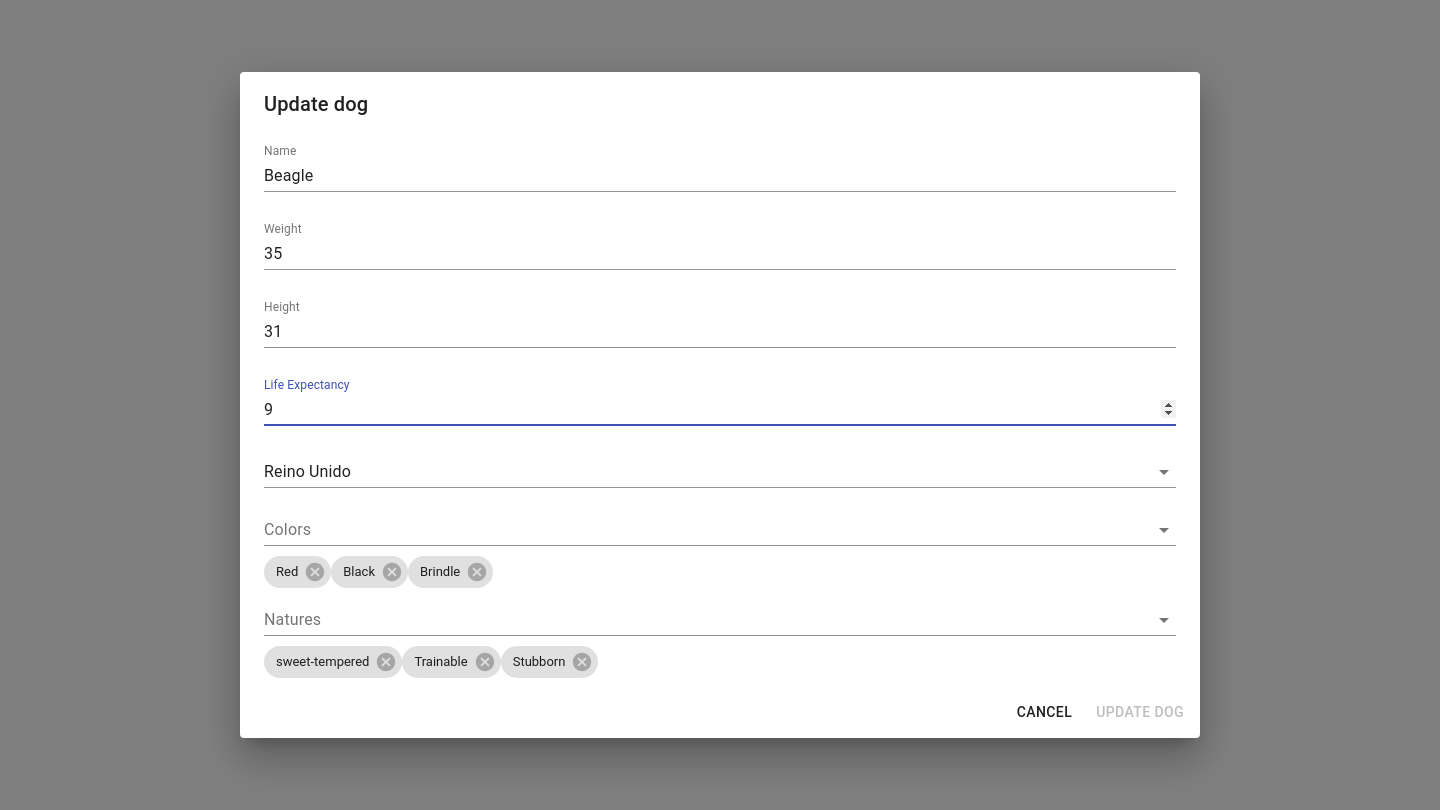
Test case: Error cases - validations, edit dialog from › Should show error message when all natures are removed
Click the icon with test id "e2e-delete-nature-sweet-tempered" at [386, 662], box [375, 651, 397, 673]
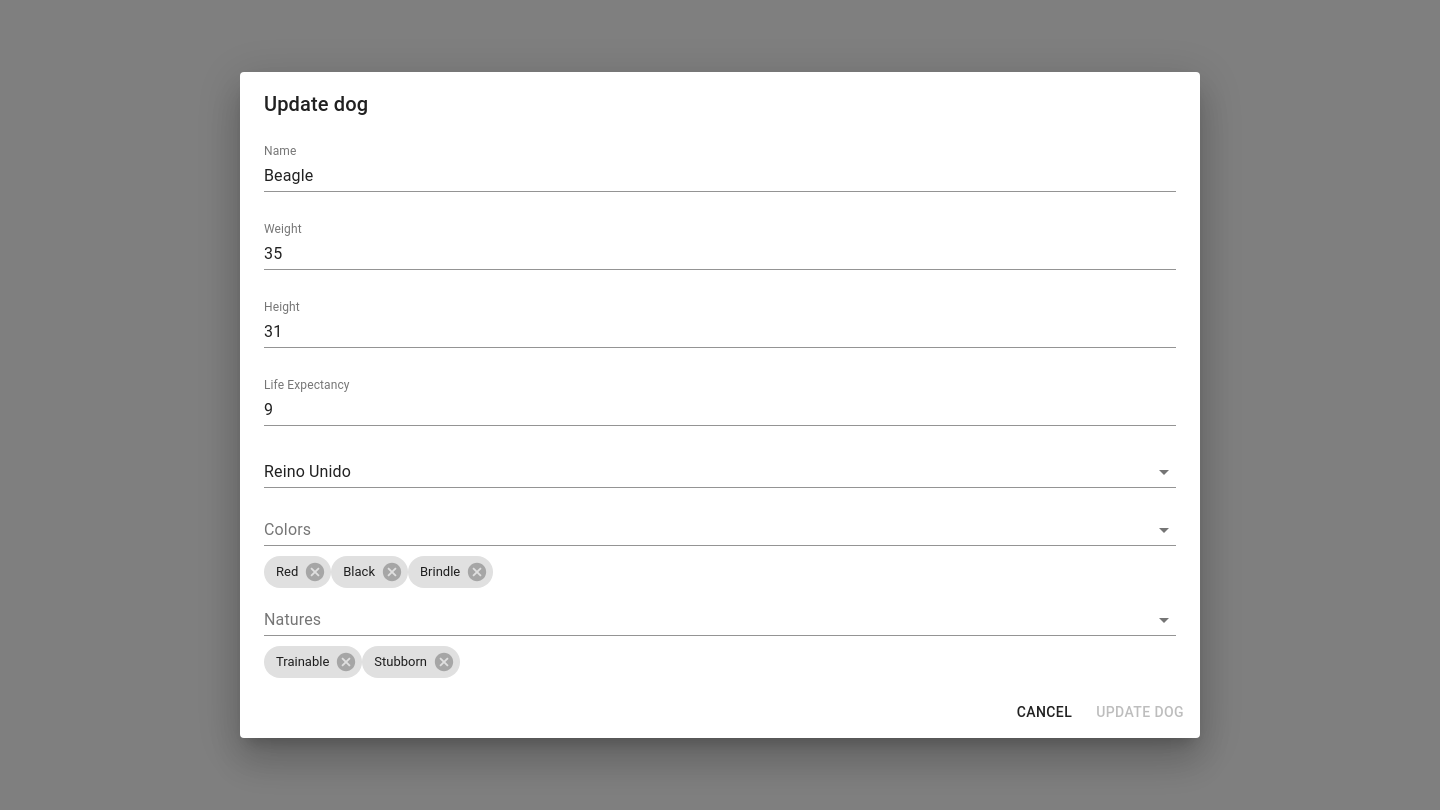
Click the icon with test id "e2e-delete-nature-Trainable" at [346, 662], box [335, 651, 357, 673]
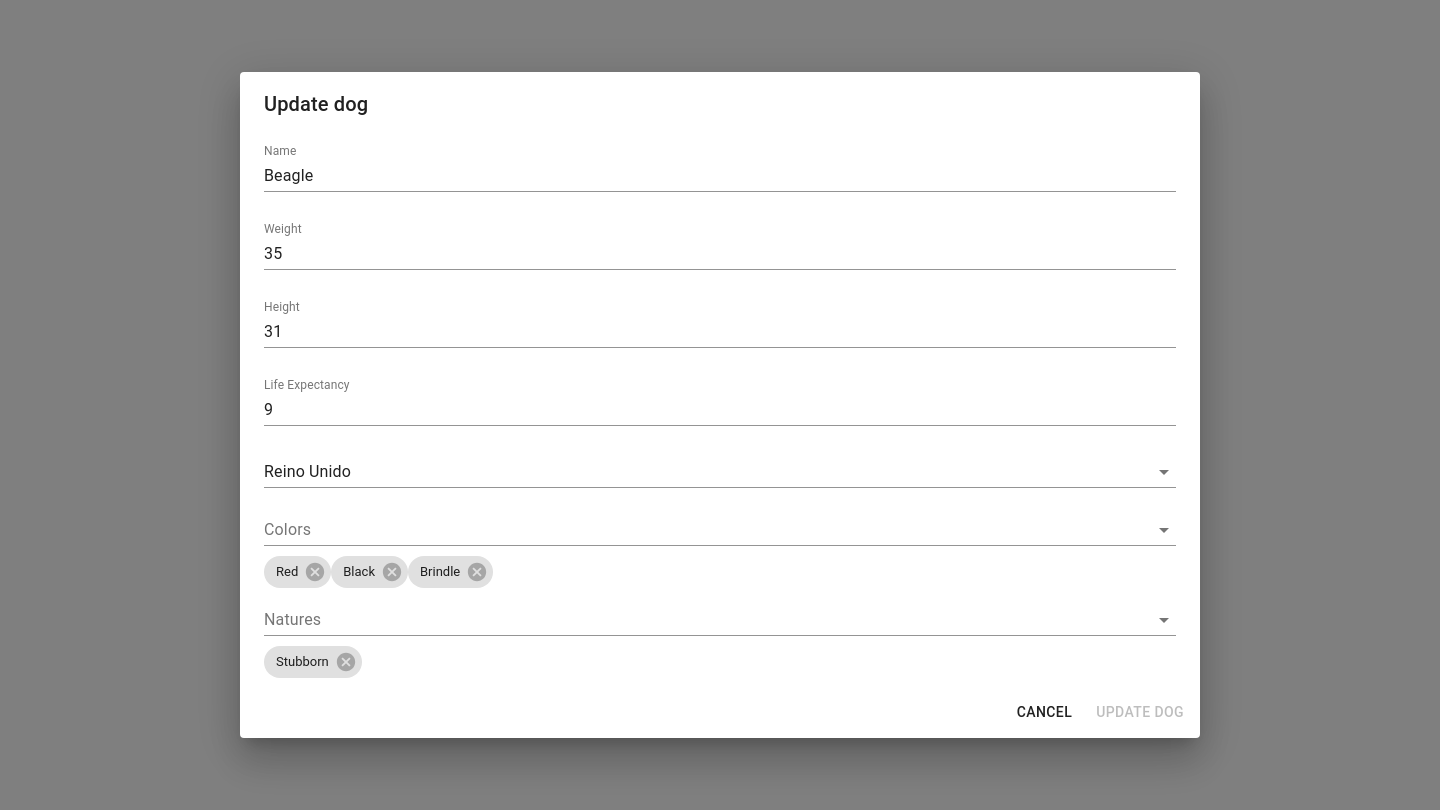
Click the icon with test id "e2e-delete-nature-Stubborn" at [346, 662], box [335, 651, 357, 673]
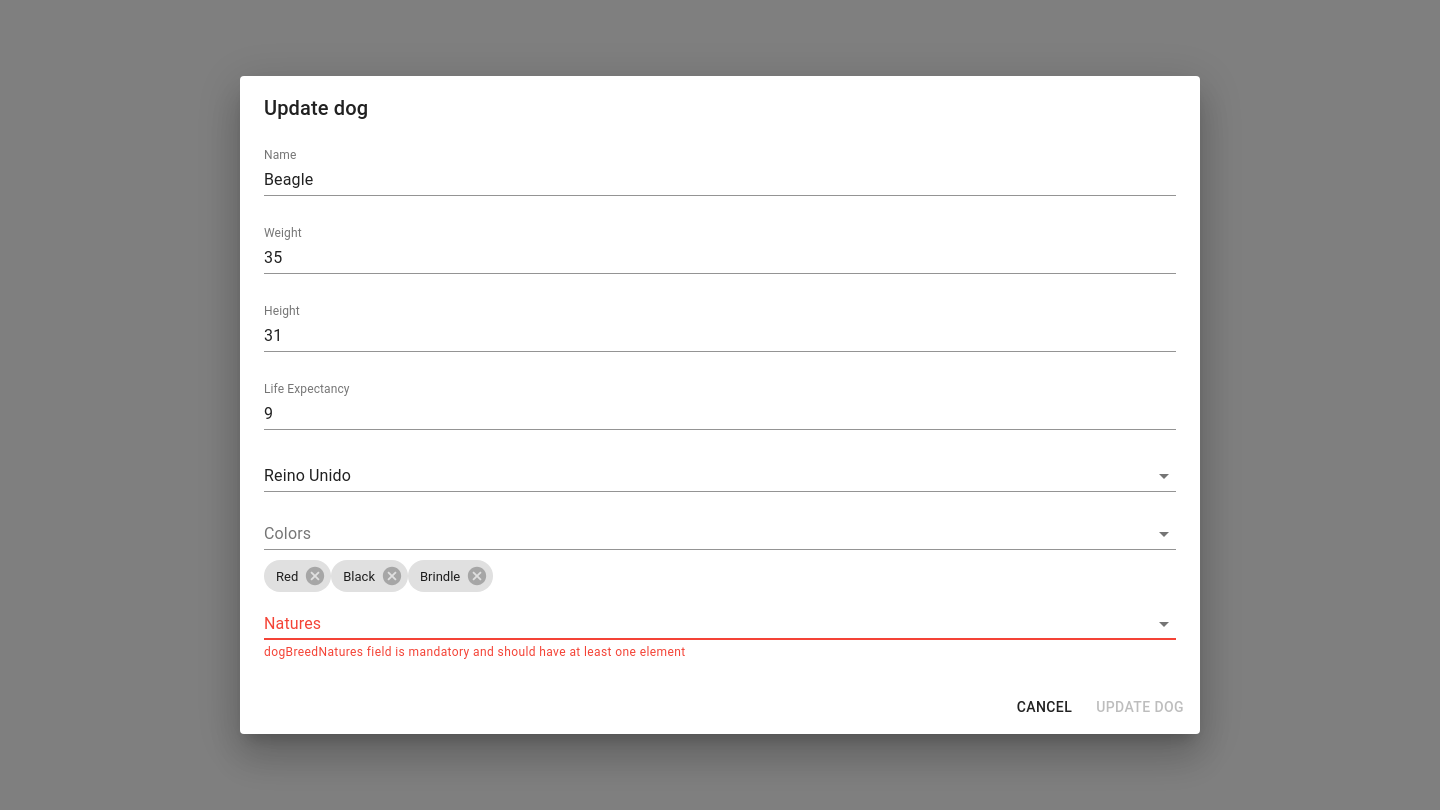
Expected: the text "dogBreedNatures field is mandatory and should have at least one element" is shown, [264, 645, 686, 659]
